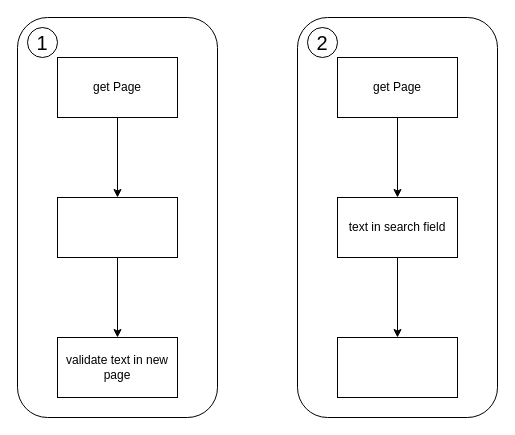
Image size: 515x435. Some labels were removed from this diagram. The shapes that lost their labels are listed below. From the top down, each one's centre as x and y in pixels, then its label:
At point 117,227: "click in hiperlink".
At point 397,367: "validate search results".
